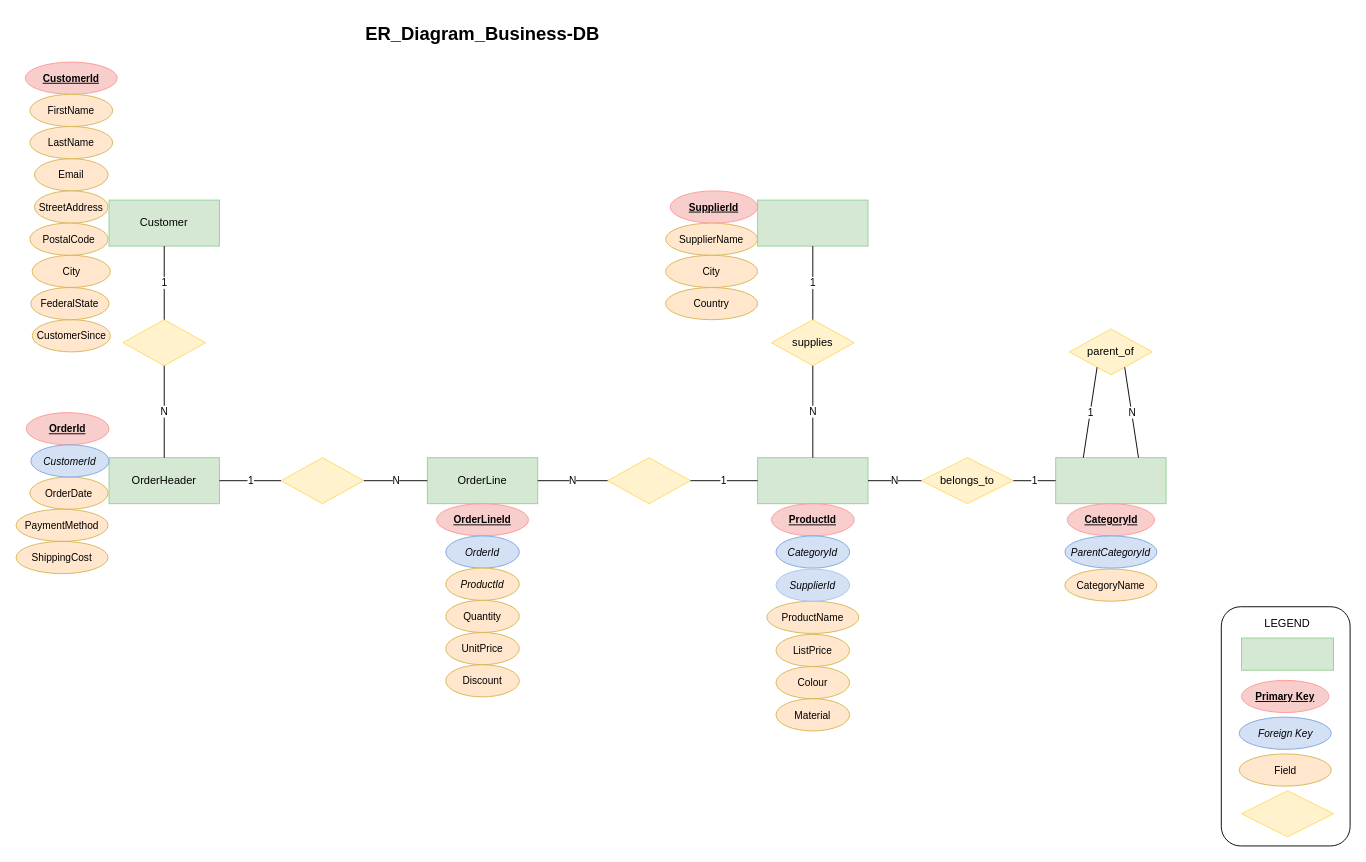
This 1366x862 diagram has some shape labels left out. The shapes that lost their labels are listed below. From the top down, each one's centre as x and y in pixels, then its label:
At point (812, 222): "Supplier".
At point (164, 342): "places".
At point (322, 480): "contains".
At point (648, 480): "ordered_in".
At point (812, 480): "Product".
At point (1110, 480): "Category".
At point (1287, 653): "Entity".
At point (1287, 813): "Relation".
